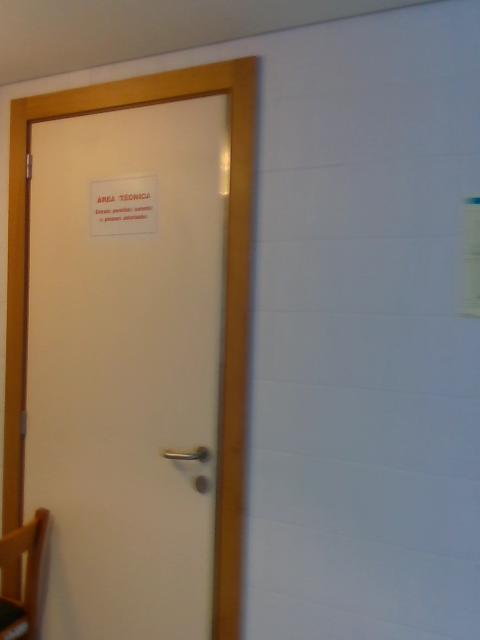door: (25, 86, 229, 640)
